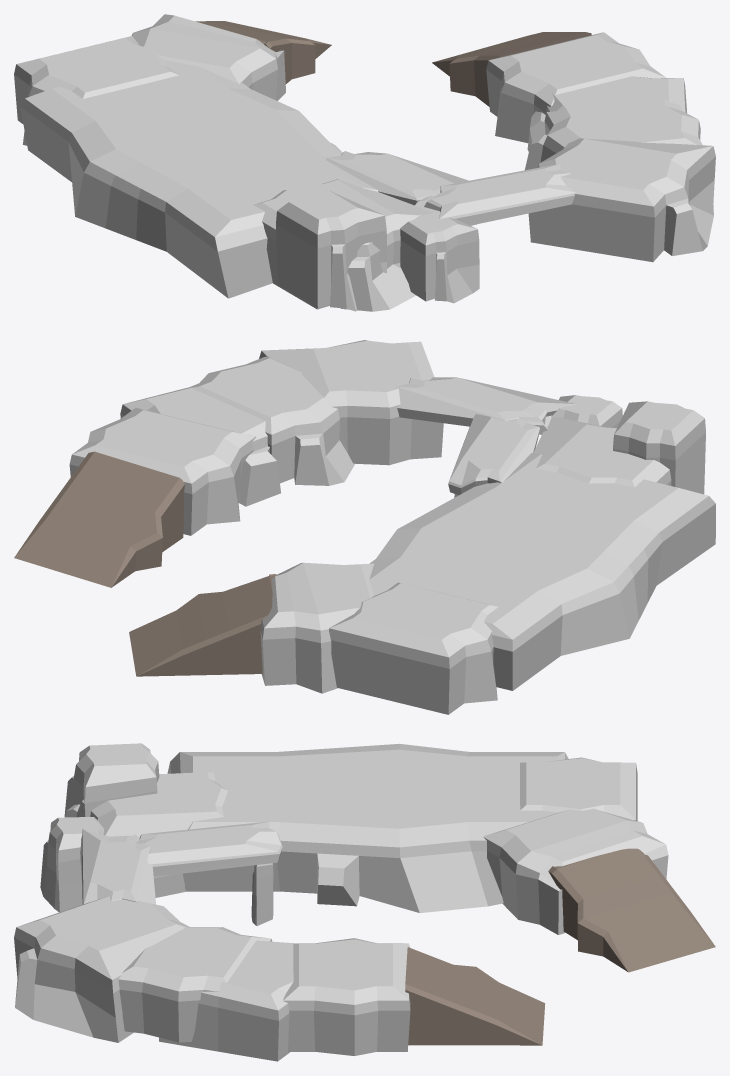
The model's file is rampa_05.fbx.
The picture shows the model from 3 angles, top to bottom: view 1: azimuth 30°, elevation 25°; view 2: azimuth 150°, elevation 25°; view 3: azimuth 270°, elevation 25°; orthographic projection. The views are drawn at different scales.
Visible parts, largest first — view 1: Cube.007, Cube.004, Cube.006, Cube.001, Cube.005, Cube.009, Cube.008, Cube.003, Cube.011, Cube.010, Cube.012, Cube.002 (+2 smaller); view 2: Cube.007, Cube.008, Rampa__1___3_, Cube.004, Cube.001, Cube.003, Rampa__1___3_.001, Cube.009, Cube.010, Cube.006, Cube.005, Cube.002 (+2 smaller); view 3: Cube.007, Cube.004, Cube.001, Rampa__1___3_.001, Cube.009, Rampa__1___3_, Cube.003, Cube.002, Cube.005, Cube.008, Cube.012, Cube.006 (+3 smaller).
Part boxes in pixels (<box>): Cube.007: <box>20,60,378,298</box>; Cube.004: <box>528,138,715,262</box>; Cube.006: <box>276,190,386,311</box>; Cube.001: <box>486,32,665,143</box>; Cube.005: <box>253,179,433,311</box>; Cube.009: <box>131,14,285,100</box>; Cube.008: <box>14,36,178,145</box>; Cube.003: <box>525,99,702,170</box>; Cube.011: <box>400,211,479,303</box>; Cube.010: <box>414,164,575,225</box>; Cube.012: <box>326,151,468,205</box>; Cube.002: <box>527,76,686,151</box>; Cube.007: <box>369,453,715,690</box>; Cube.008: <box>329,582,498,714</box>; Rampa__1___3_: <box>14,451,184,587</box>; Cube.004: <box>259,340,443,465</box>; Cube.001: <box>69,407,255,535</box>; Cube.003: <box>188,356,354,485</box>; Rampa__1___3_.001: <box>129,574,276,676</box>; Cube.009: <box>260,562,374,693</box>; Cube.010: <box>395,377,576,434</box>; Cube.006: <box>613,401,705,494</box>; Cube.005: <box>533,417,671,487</box>; Cube.002: <box>120,386,292,506</box>; Cube.007: <box>167,743,568,912</box>; Cube.004: <box>14,896,189,1042</box>; Cube.001: <box>283,938,410,1055</box>; Rampa__1___3_.001: <box>548,848,715,972</box>; Cube.009: <box>483,808,668,934</box>; Rampa__1___3_: <box>405,947,545,1045</box>; Cube.003: <box>118,927,272,1042</box>; Cube.002: <box>159,940,298,1061</box>; Cube.005: <box>65,772,227,897</box>; Cube.008: <box>520,757,637,820</box>; Cube.012: <box>136,821,282,877</box>; Cube.006: <box>64,743,159,816</box>.
Bounding box in the file's own units: 8085 × 1509 × 8796.
